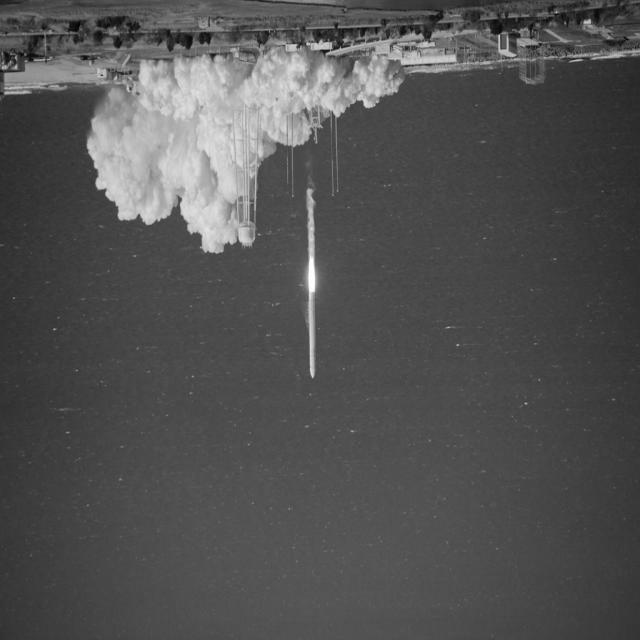missile: (306, 286, 319, 381)
